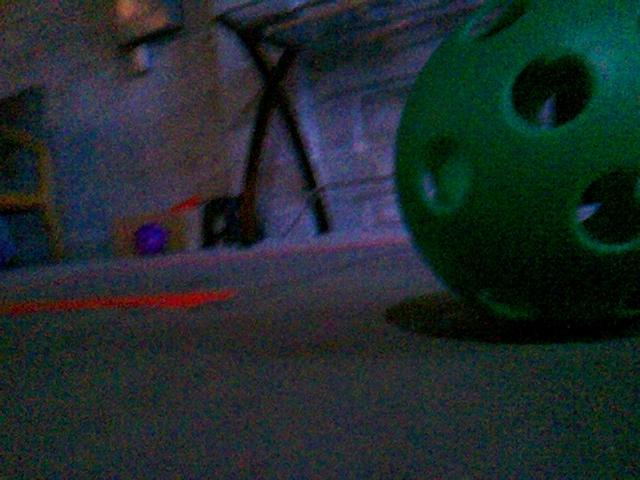Green: (390, 1, 639, 333)
Purple: (133, 223, 168, 255)
